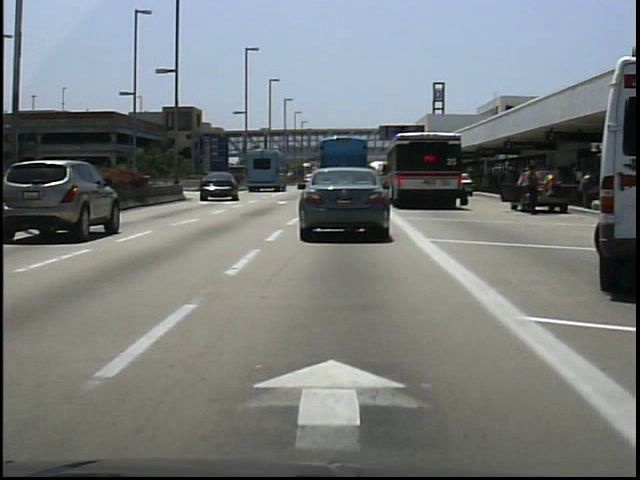person: (519, 163, 543, 217)
